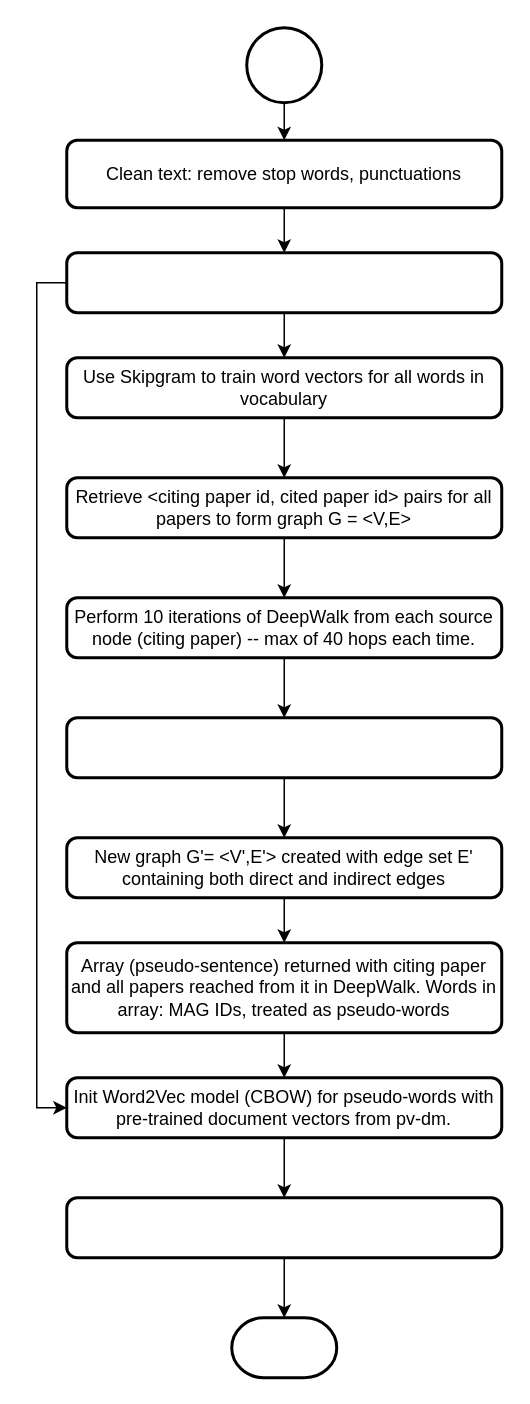
The diagram is 530 pixels wide and 1404 high, and some of its shapes have lost their labels. The box of each missing label's shape, as (x1, y1, x2, y2) in pixels:
For each citing paper, add a new 'indirect' edge to all the nodes reached: (64, 716, 502, 778)
Train Word2Vec model to get entriched Paper2Vec papers: (64, 1196, 502, 1258)
Use pv-dm to train document vectors for all papers in data set: (64, 250, 502, 314)
